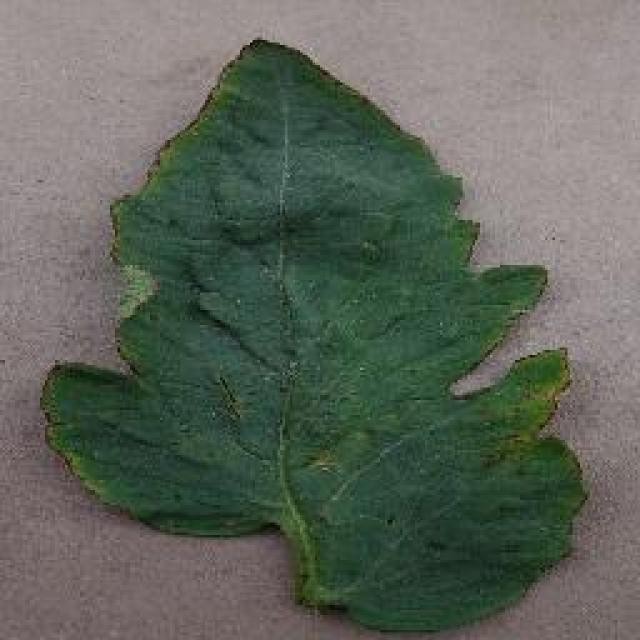Tomato___Bacterial_spot: (32, 33, 598, 637)
